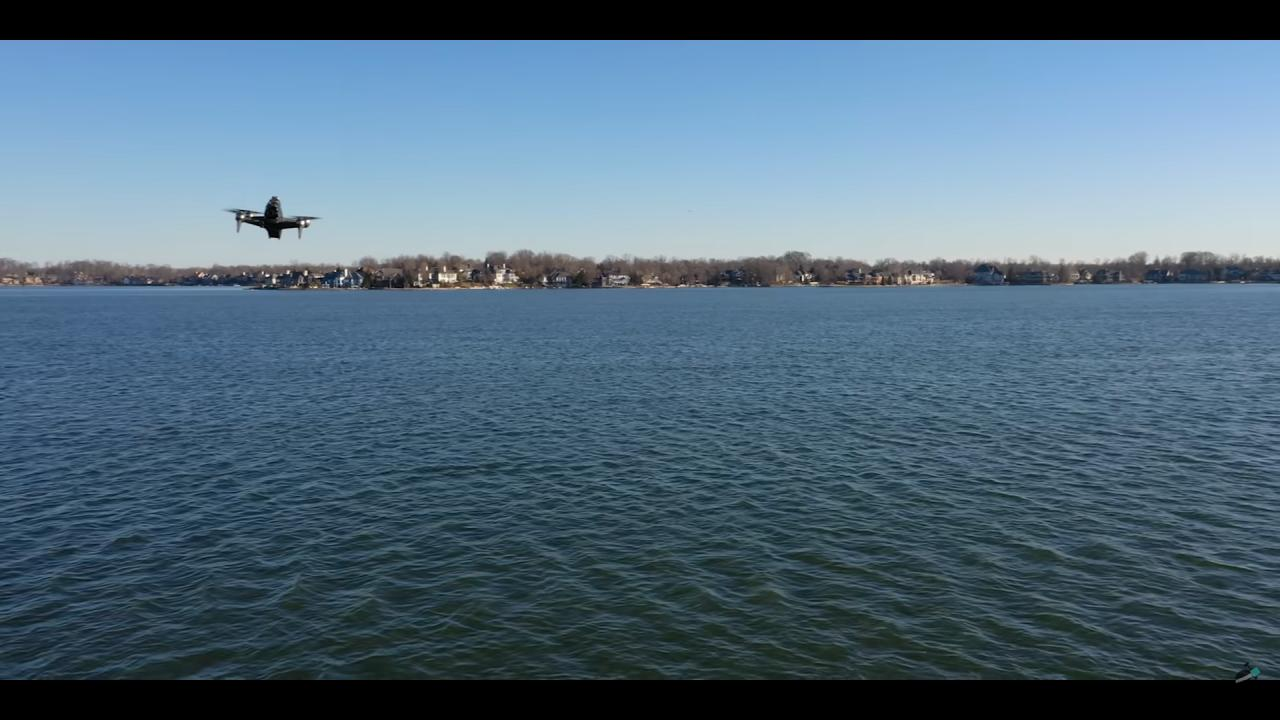Drone: (211, 188, 336, 251)
